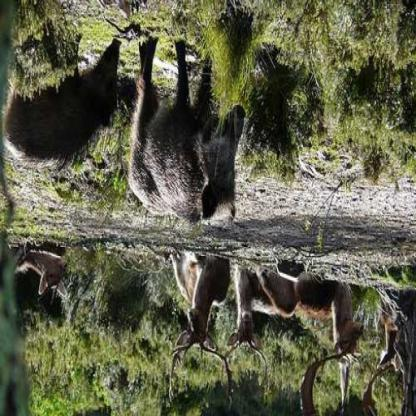boar: (146, 73, 260, 258), (27, 76, 142, 197)
